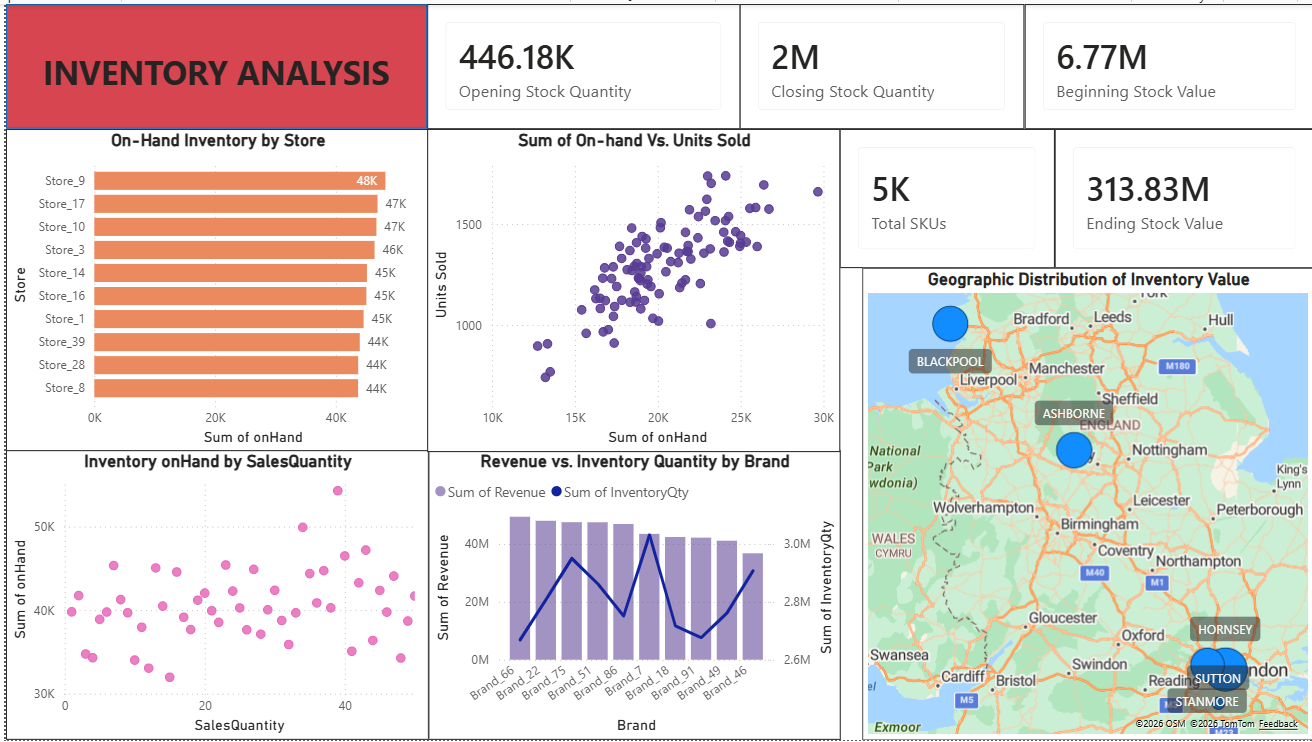

Layout of this report page (visuals, bound fields, positions):
{"tool":"powerbi","page":{"name":"INVENTORY ANALYSIS","canvas":[1280,720],"ordinal":1},"visuals":[{"type":"cardVisual","fields":{"Data":["Sum(begin_inventory.onHand)"]},"box":[412,0,306,122],"z":0},{"type":"cardVisual","fields":{"Data":["Sum(end_inventory.onHand)"]},"box":[718,0,278,122],"z":1000},{"type":"cardVisual","fields":{"Data":["Measures Table.Beginning Inventory Value"]},"box":[996,0,284,122],"z":2000},{"type":"cardVisual","fields":{"Data":["Measures Table.Ending Inventory Value"]},"box":[1026,122,254,136],"z":3000},{"type":"cardVisual","fields":{"Data":["Measures Table.Total Inventory Items"]},"box":[816,122,210,136],"z":4000},{"type":"clusteredBarChart","title":"On-Hand Inventory by Store","fields":{"Category":["end_inventory.Store"],"Y":["Sum(end_inventory.onHand)"]},"box":[0,122,414,316],"z":5000},{"type":"scatterChart","title":"Inventory onHand by SalesQuantity","fields":{"X":["sales.SalesQuantity"],"Y":["Sum(end_inventory.onHand)"]},"box":[0,436.7,413.3,283.3],"z":6000},{"type":"lineStackedColumnComboChart","title":"Revenue vs. Inventory Quantity by Brand","fields":{"Category":["vw_BrandRevenueInventory.Brand"],"Y":["Sum(vw_BrandRevenueInventory.Revenue)"],"Y2":["Sum(vw_BrandRevenueInventory.InventoryQty)"]},"box":[412.9,437.1,402.9,282.9],"z":7000},{"type":"scatterChart","title":"Sum of On-hand Vs. Units Sold ","fields":{"X":["Sum(end_inventory.onHand)"],"Y":["Measures Table.Units Sold"],"Category":["end_inventory.Brand"]},"box":[412,122,404,316],"z":8000},{"type":"azureMap","title":"Geographic Distribution of Inventory Value","fields":{"Category":["begin_inventory.City"],"Size":["Sum(begin_inventory.onHand)"]},"box":[838,258,442,462],"z":9000},{"type":"shape","box":[0,0,412,122],"z":10000},{"type":"textbox","box":[14,40,386,52],"z":11000}]}

Visuals, with their boxes in screenshot pixels (x1, y1, x2, y2), scaled from the page's 1280x720 canvas onto the 1312x742 screenshot:
cardVisual - Sum(begin_inventory.onHand): x1=422, y1=0, x2=736, y2=126
cardVisual - Sum(end_inventory.onHand): x1=736, y1=0, x2=1021, y2=126
cardVisual - Measures Table.Beginning Inventory Value: x1=1021, y1=0, x2=1311, y2=126
cardVisual - Measures Table.Ending Inventory Value: x1=1052, y1=126, x2=1311, y2=266
cardVisual - Measures Table.Total Inventory Items: x1=836, y1=126, x2=1052, y2=266
"On-Hand Inventory by Store" clusteredBarChart: x1=0, y1=126, x2=424, y2=451
"Inventory onHand by SalesQuantity" scatterChart: x1=0, y1=450, x2=424, y2=741
"Revenue vs. Inventory Quantity by Brand" lineStackedColumnComboChart: x1=423, y1=450, x2=836, y2=741
"Sum of On-hand Vs. Units Sold " scatterChart: x1=422, y1=126, x2=836, y2=451
"Geographic Distribution of Inventory Value" azureMap: x1=859, y1=266, x2=1311, y2=741
shape: x1=0, y1=0, x2=422, y2=126
textbox: x1=14, y1=41, x2=410, y2=95
